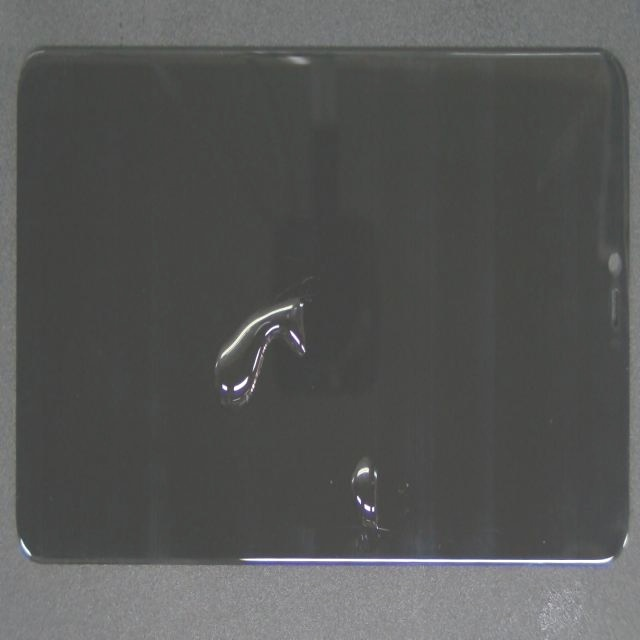oil: (191, 214, 531, 640), (132, 146, 439, 506)
